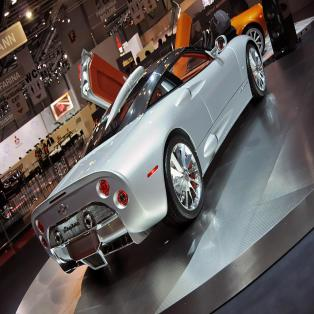Auto: (30, 33, 266, 274)
